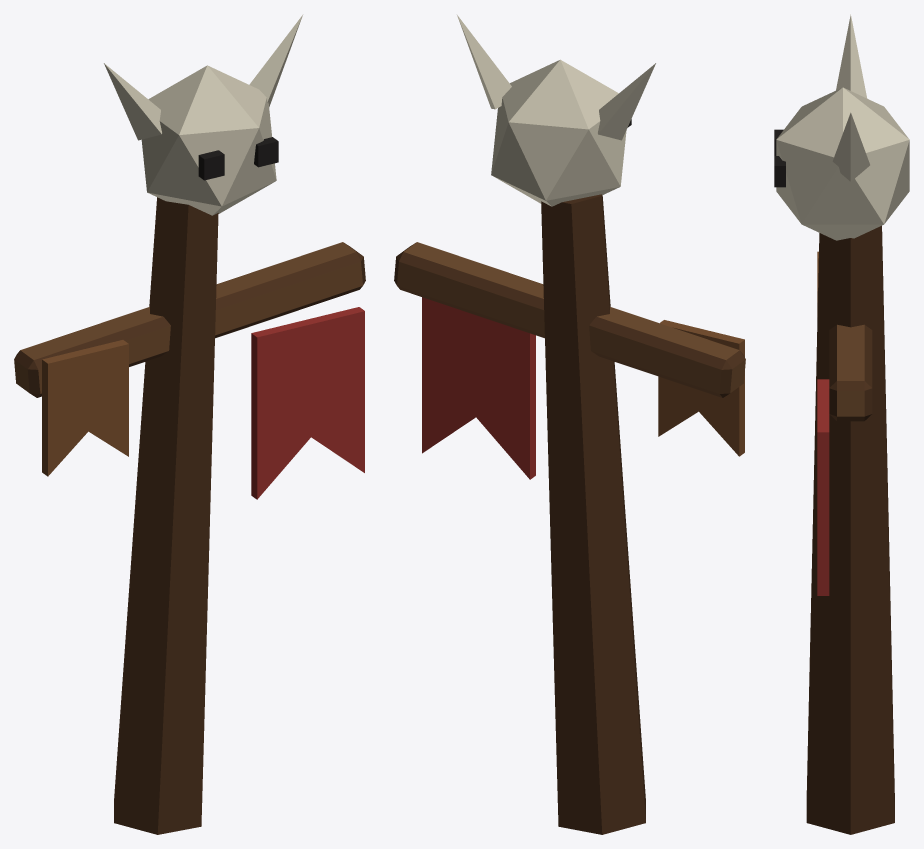
Rendered from goblin_totem.glb.
3 renders of one model, left to right at view 1: azimuth 30°, elevation 25°; view 2: azimuth 150°, elevation 25°; view 3: azimuth 270°, elevation 25°, orthographic.
Visible parts, largest first — view 1: goblin_totem; view 2: goblin_totem; view 3: goblin_totem.
Boxes of the visible parts, x1,y1,x2,y2 form: goblin_totem: [14, 15, 365, 834]; goblin_totem: [394, 15, 745, 834]; goblin_totem: [774, 14, 909, 834].
Bounding box in the file's own units: 1 × 2.17 × 0.3451.
